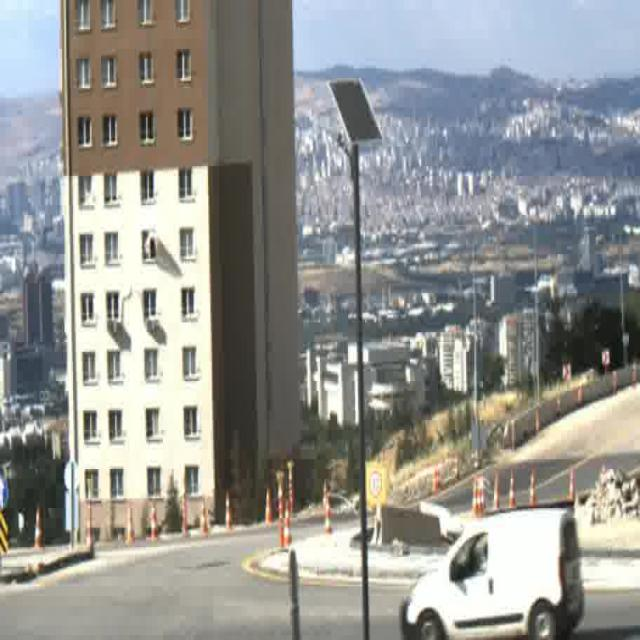Car: (400, 510, 579, 640)
